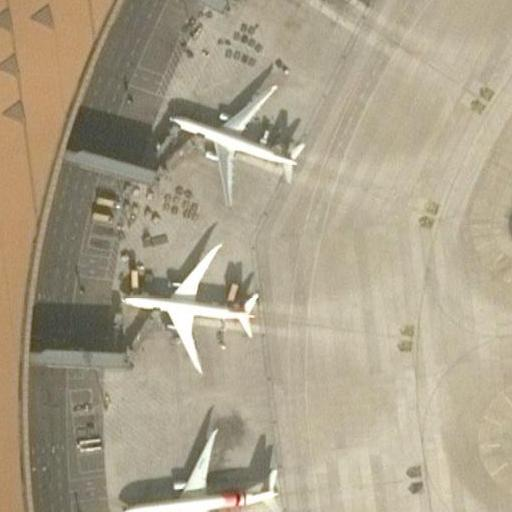Aircraft: (123, 235, 263, 379), (163, 73, 307, 201), (112, 420, 290, 512)
